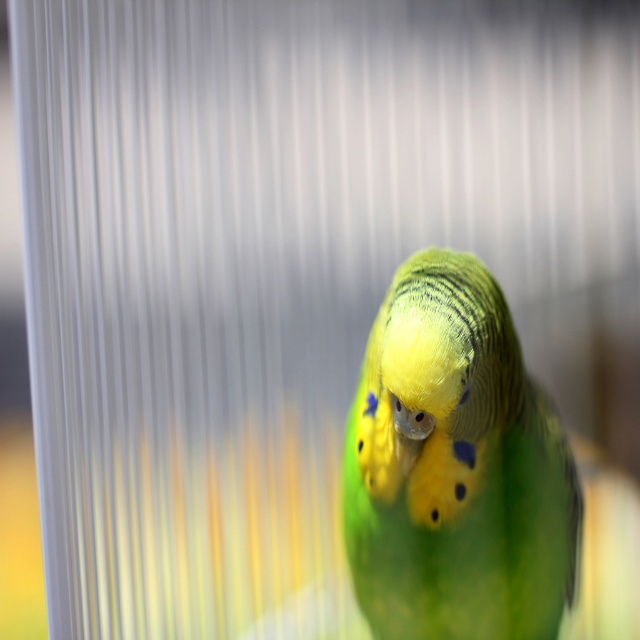Parrot: (339, 242, 589, 639)
